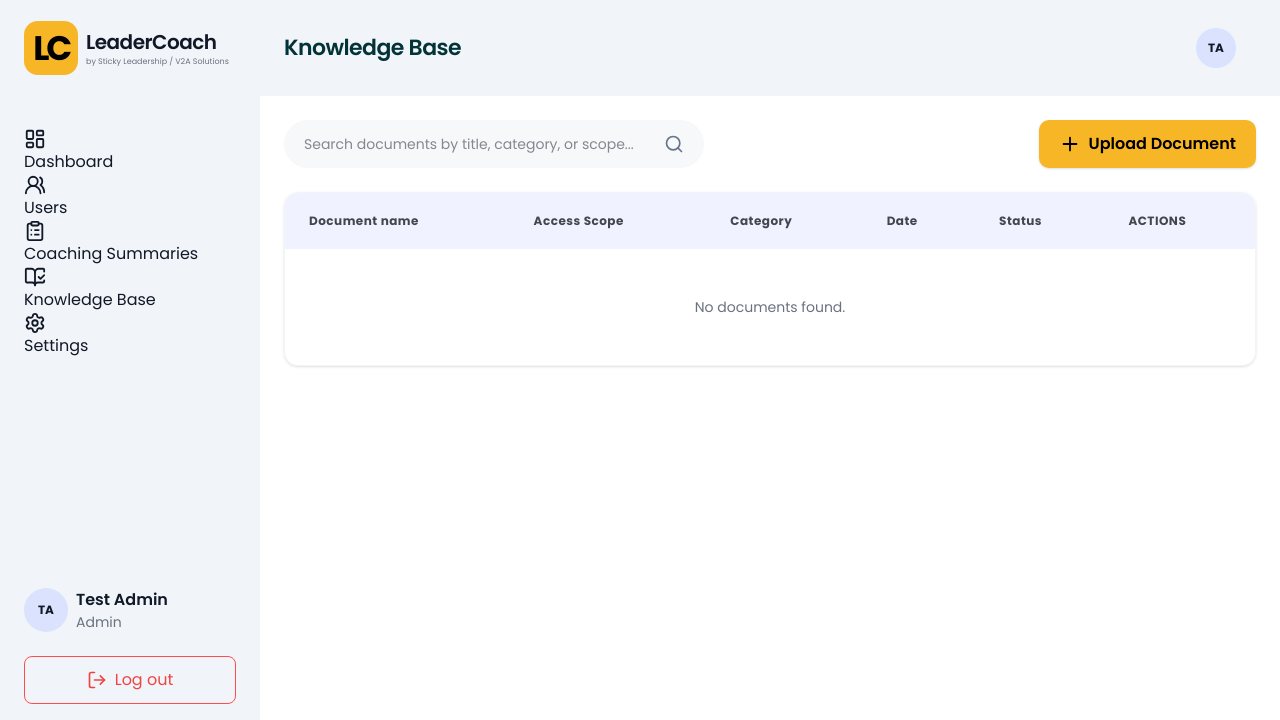
Test case: KnowledgeBasePage › opens the upload dialog
Click the button "Upload Document". click: point(1147, 144)
box: x1=1038 y1=120 x2=1256 y2=168
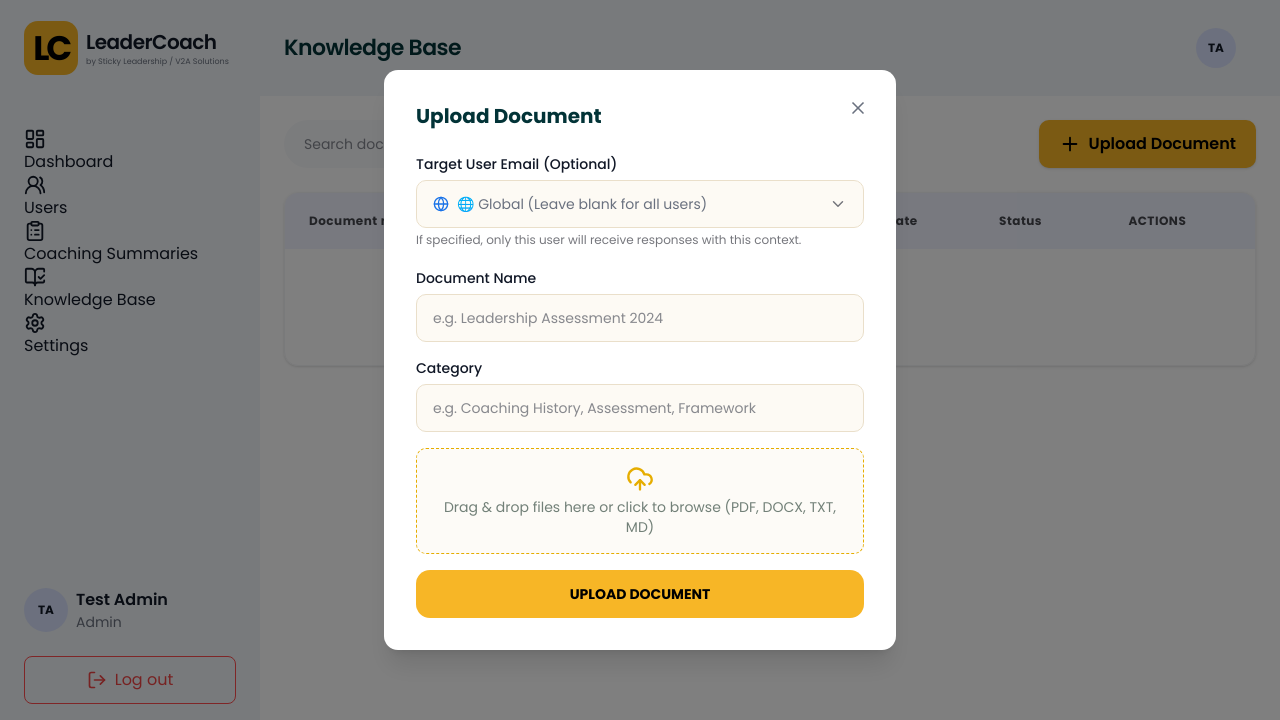
Now the dialog "Upload Document" is shown, box x1=384 y1=70 x2=896 y2=650
